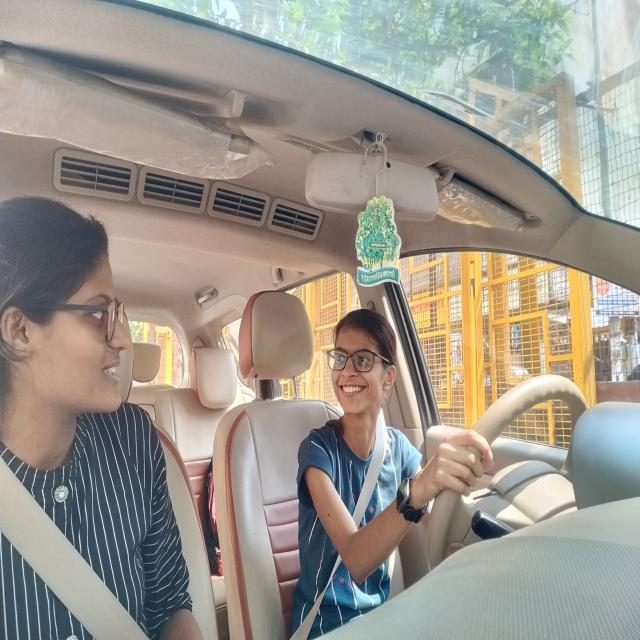LeftRight: (328, 318, 399, 423)
person: (5, 198, 140, 426)
talking: (97, 362, 127, 385), (335, 381, 371, 398)
